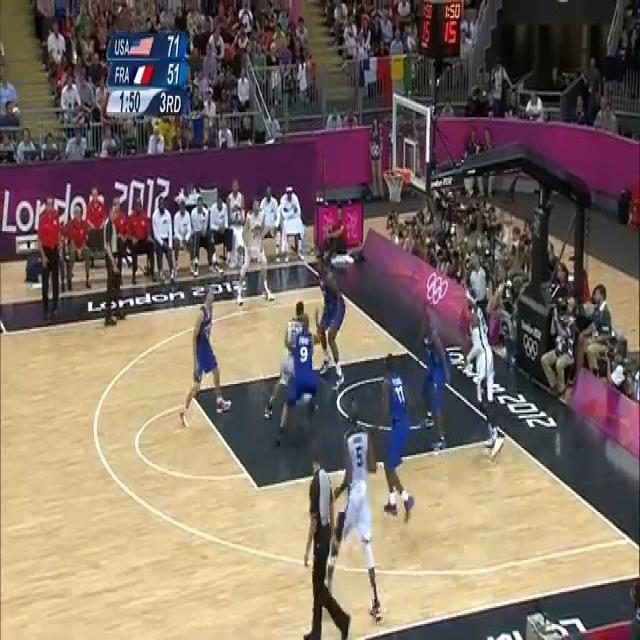hoop: (384, 164, 406, 201)
person: (293, 451, 350, 640), (181, 289, 230, 426), (39, 193, 65, 312), (321, 265, 348, 373), (63, 196, 91, 289), (150, 194, 173, 281), (16, 126, 41, 162), (146, 121, 164, 154)
